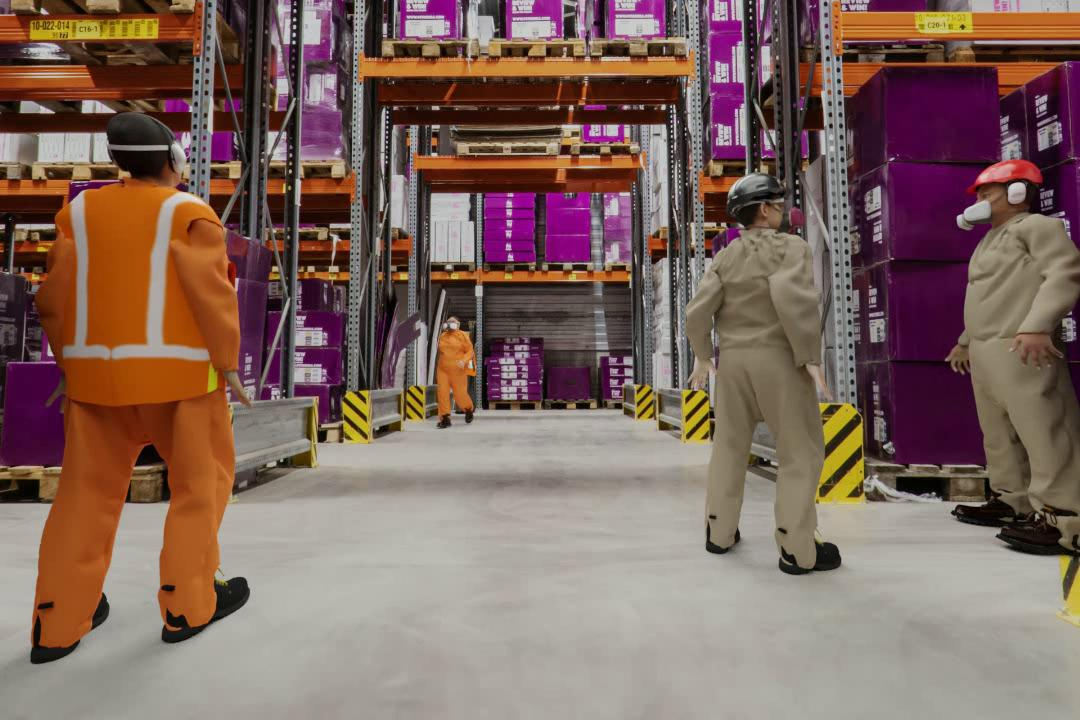Helmet: (721, 170, 789, 207), (968, 157, 1045, 189)
Jacket: (62, 187, 211, 401)
Shoes: (23, 588, 112, 667), (160, 573, 253, 647), (999, 518, 1079, 560), (952, 491, 1027, 523), (780, 537, 843, 575), (435, 416, 453, 429), (465, 410, 474, 424)
